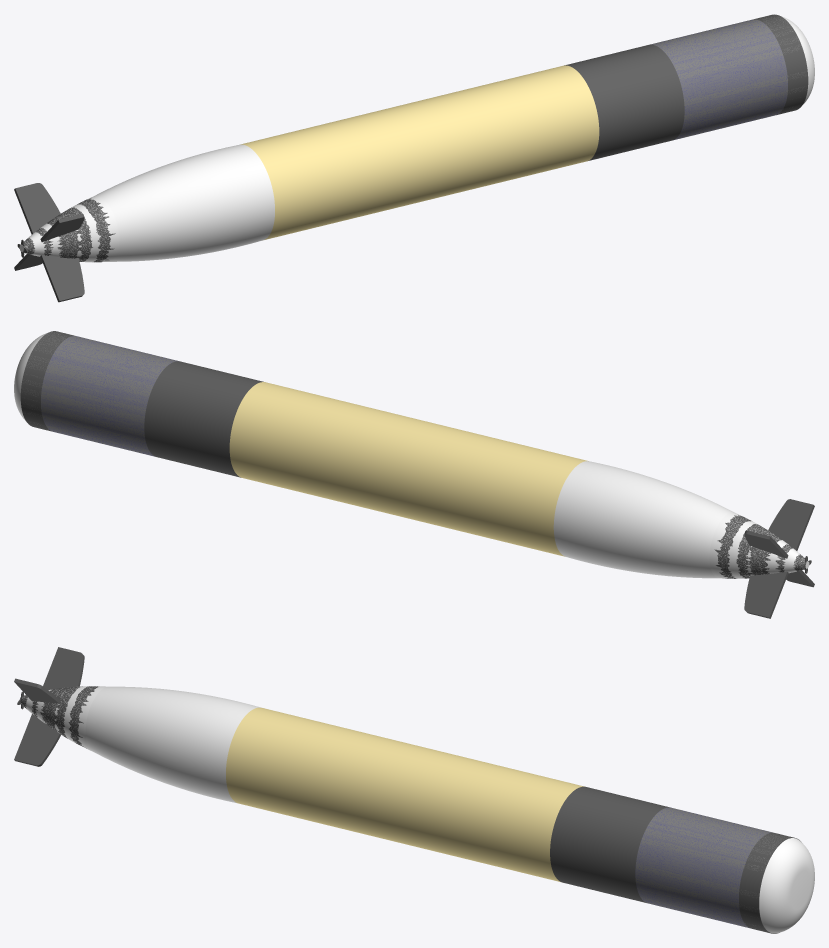
Rendered from uuv.glb.
3 views of the same model, one above another, from view 1: azimuth 30°, elevation 25°; view 2: azimuth 150°, elevation 25°; view 3: azimuth 330°, elevation 25° (orthographic).
Visible parts, largest first — view 1: MB2250-90_Remus_Pipe_Scene, instance_0.003, instance_0.008, instance_0, instance_0.005, instance_0.001, instance_0.011; view 2: MB2250-90_Remus_Pipe_Scene, instance_0.003, instance_0.008, instance_0, instance_0.005, instance_0.001, instance_0.011; view 3: MB2250-90_Remus_Pipe_Scene, instance_0.003, instance_0.008, instance_0, instance_0.005, instance_0.001, instance_0.007, instance_0.011.
Boxes of the visible parts, box(x1,y1,x2,y2) form: MB2250-90_Remus_Pipe_Scene: box(14, 15, 814, 302); instance_0.003: box(240, 65, 598, 238); instance_0.008: box(650, 19, 787, 140); instance_0: box(97, 144, 274, 261); instance_0.005: box(564, 44, 684, 159); instance_0.001: box(21, 198, 115, 262); instance_0.011: box(754, 14, 807, 113); MB2250-90_Remus_Pipe_Scene: box(14, 331, 814, 618); instance_0.003: box(229, 382, 588, 555); instance_0.008: box(41, 336, 178, 456); instance_0: box(554, 461, 730, 578); instance_0.005: box(144, 361, 263, 476); instance_0.001: box(714, 515, 807, 578); instance_0.011: box(20, 331, 74, 429); MB2250-90_Remus_Pipe_Scene: box(14, 647, 814, 933); instance_0.003: box(226, 707, 584, 880); instance_0.008: box(635, 807, 772, 928); instance_0: box(88, 686, 260, 801); instance_0.005: box(550, 786, 670, 901); instance_0.001: box(20, 686, 98, 748); instance_0.007: box(761, 839, 814, 931); instance_0.011: box(739, 832, 793, 931).
Size of the model in its own units: 67.78 by 7.49 by 7.49.
